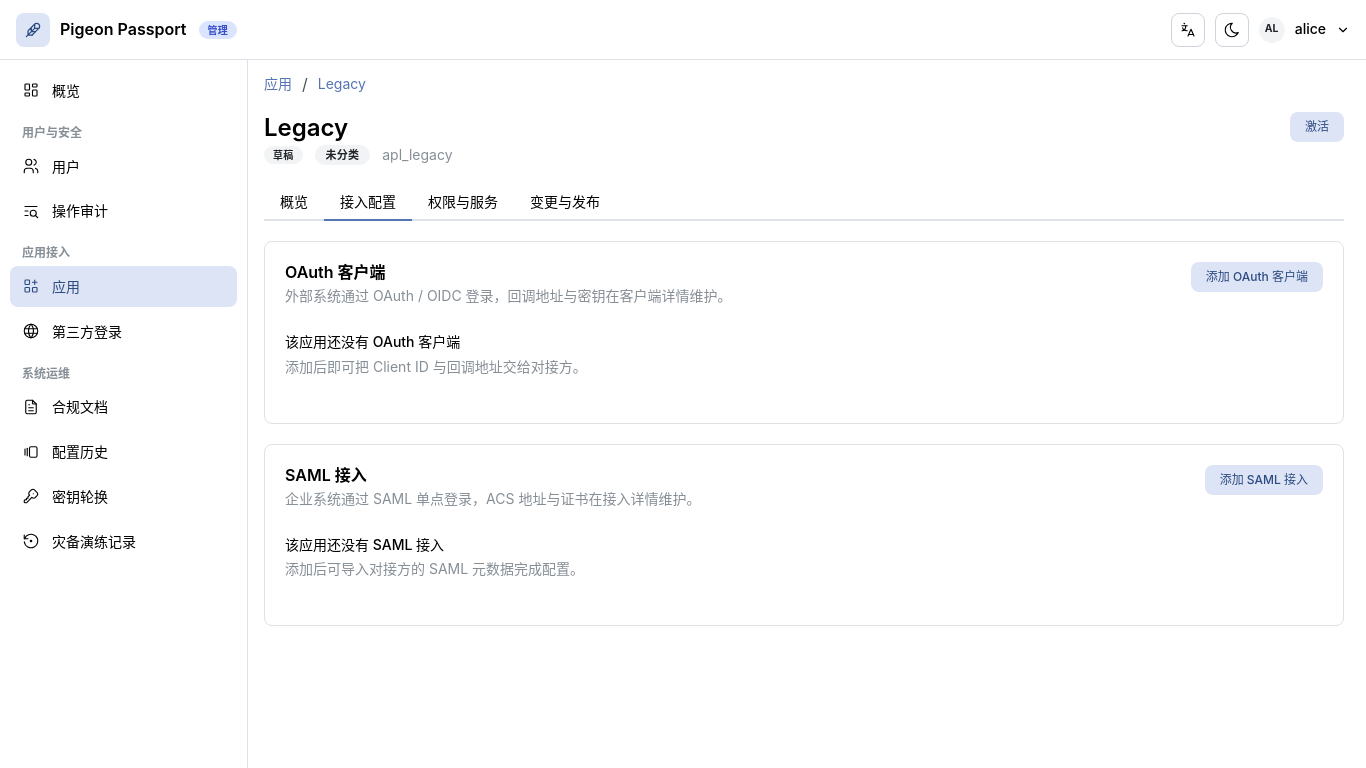
Test: Application types › hides the device preset for a fixed legacy parent and links to classification
The image size is (1366, 768).
Click the button "添加 OAuth 客户端" at (1257,278), box [1191, 262, 1323, 292]
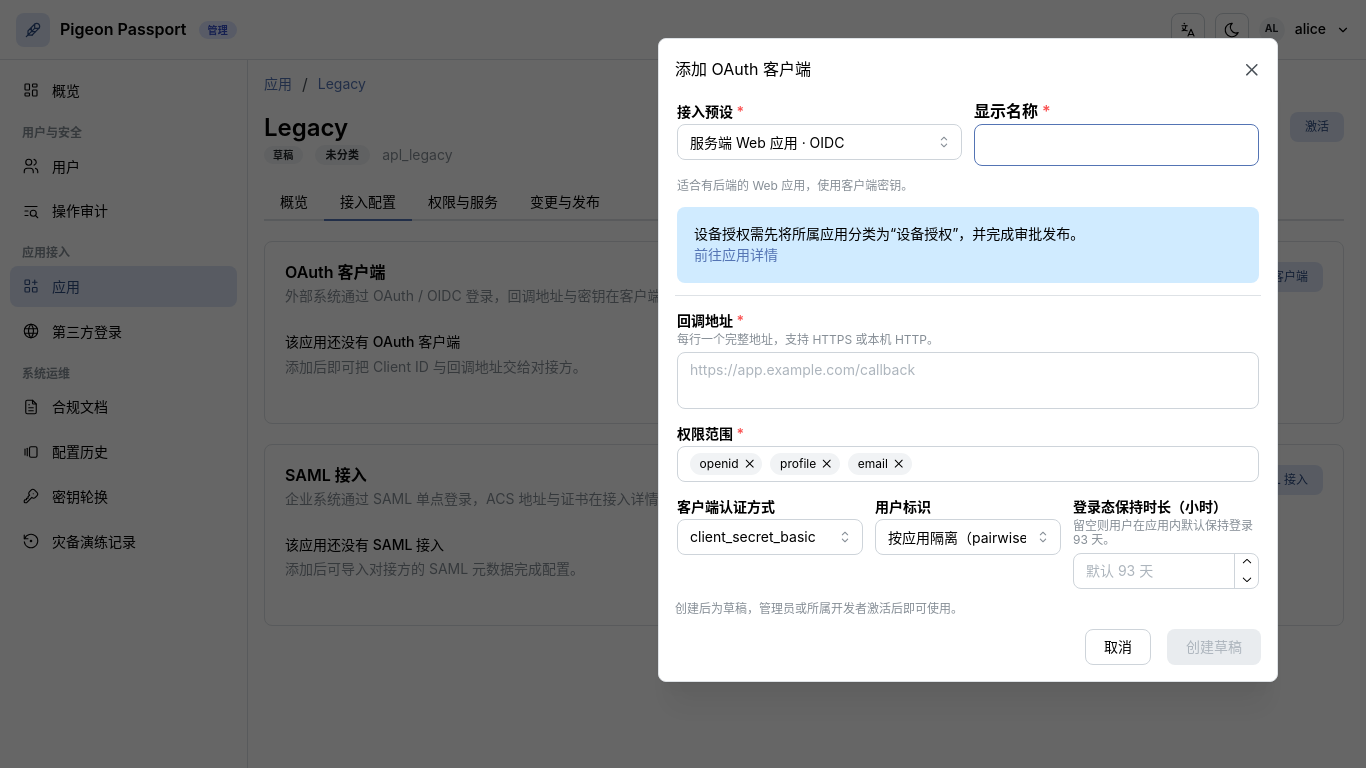
Click the dropdown labelled "接入预设 *" at (820,142), box [677, 124, 962, 160]
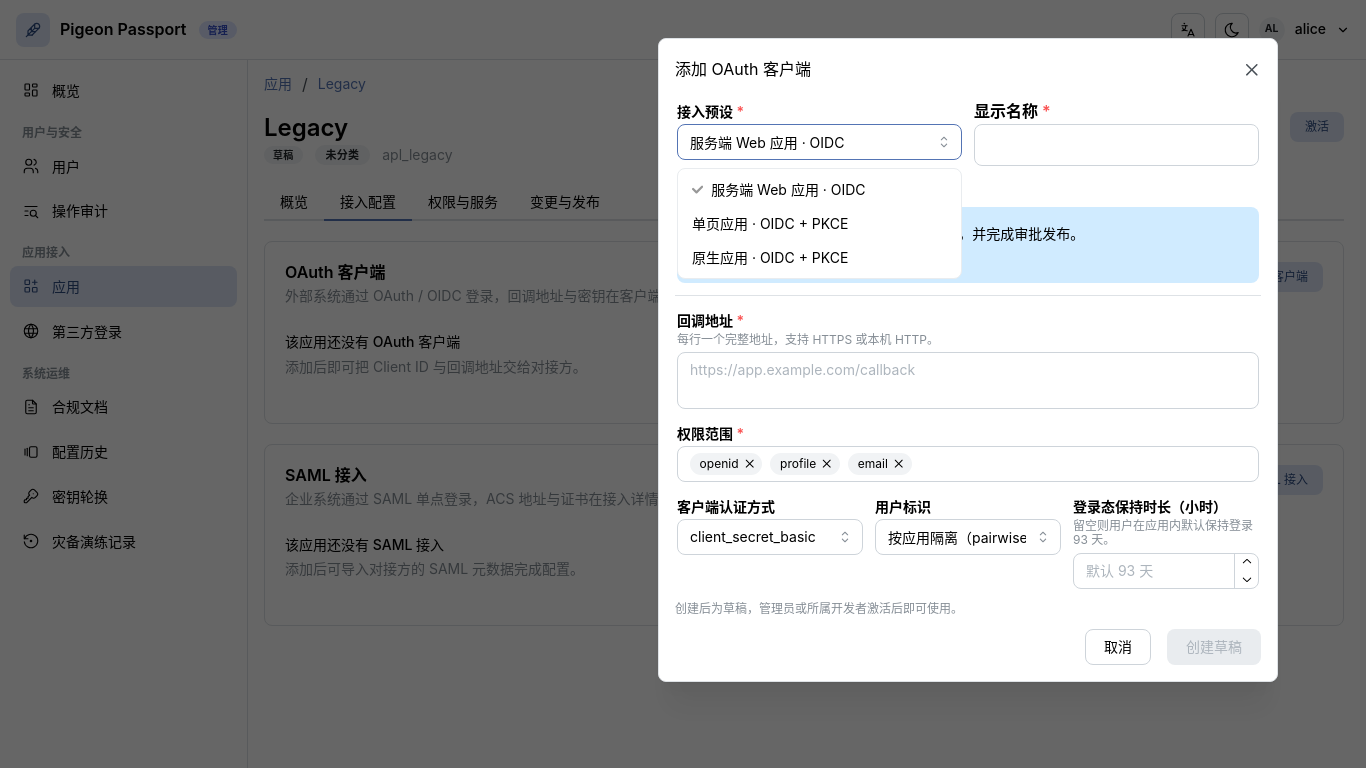
Result: the text "设备授权需先将所属应用分类为“设备授权”，并完成审批发布。" is shown at [694, 225, 1084, 242]
Press Escape
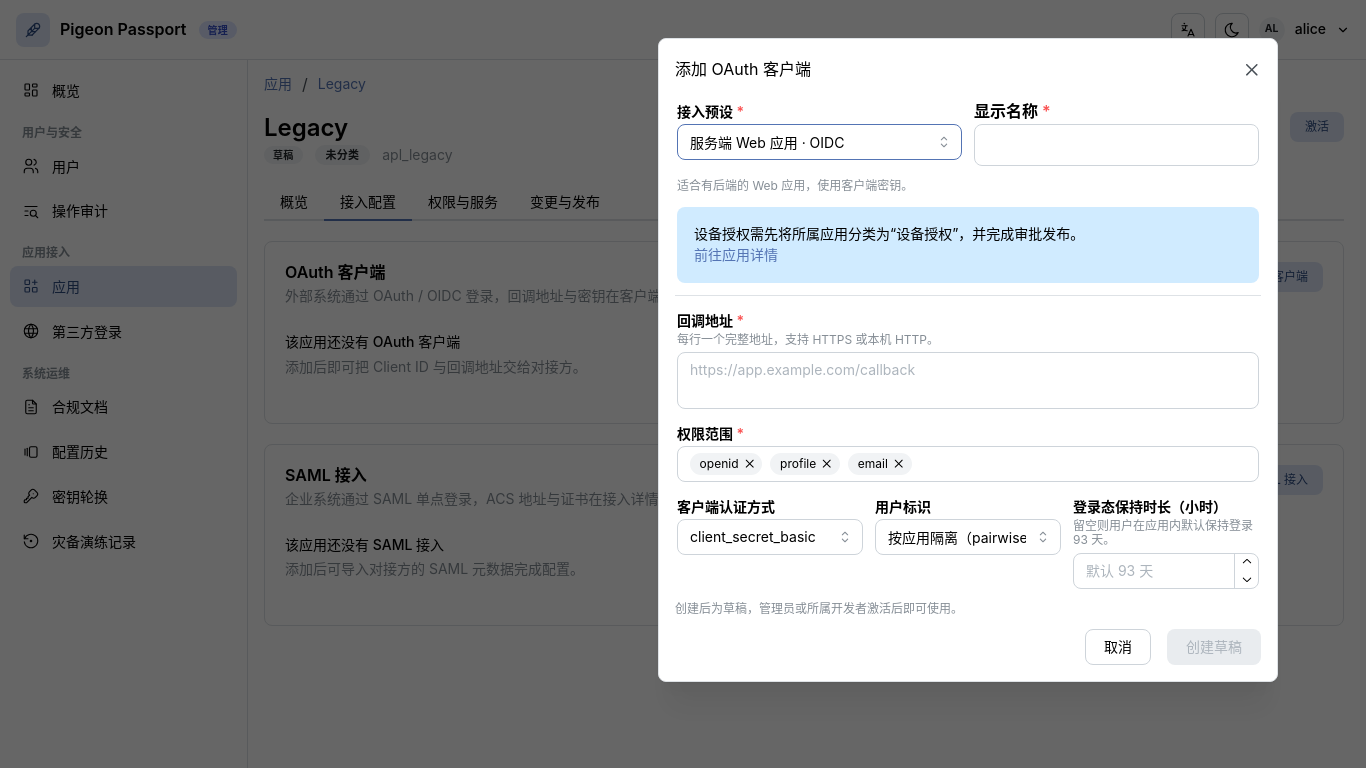
Click the link "前往应用详情" at (736,255), box [694, 246, 778, 263]
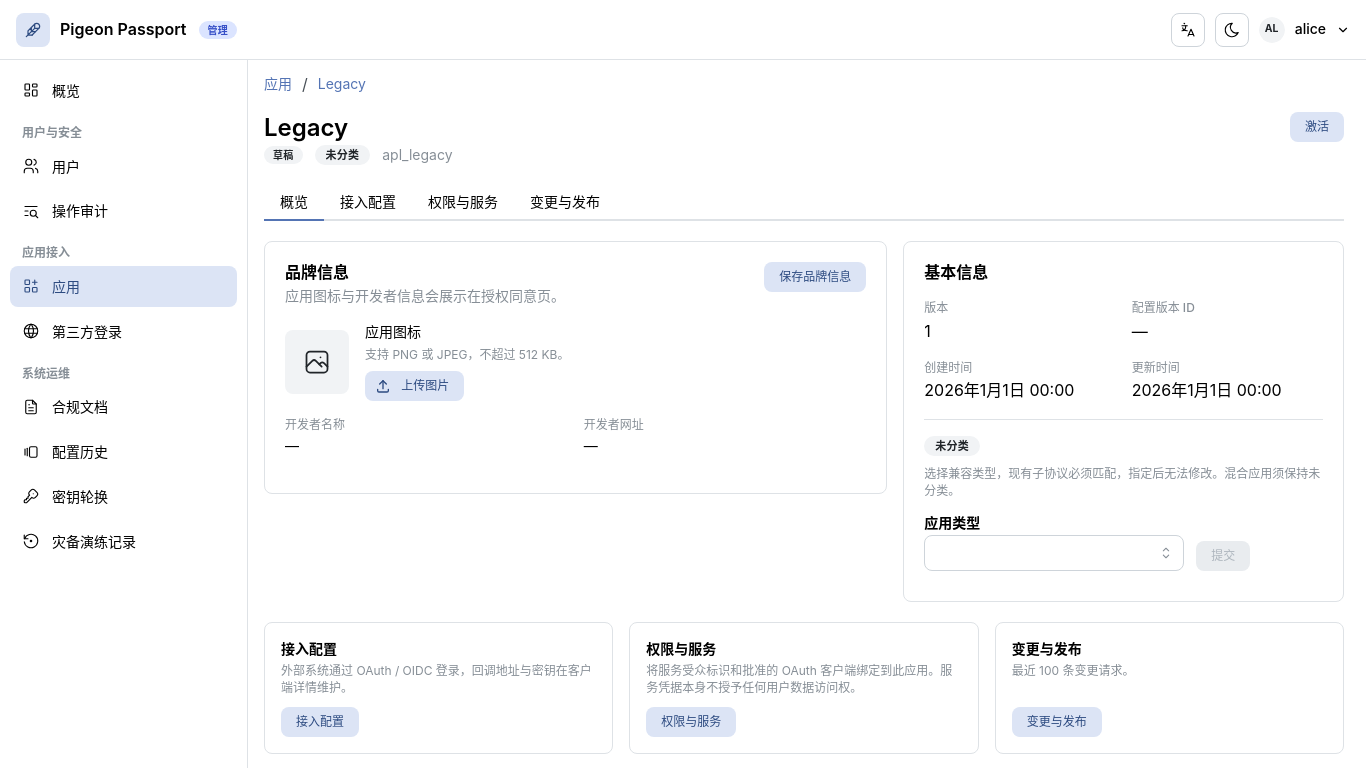
Result: the dialog is gone
Result: the dropdown labelled "应用类型" is shown at [924, 535, 1184, 571]
